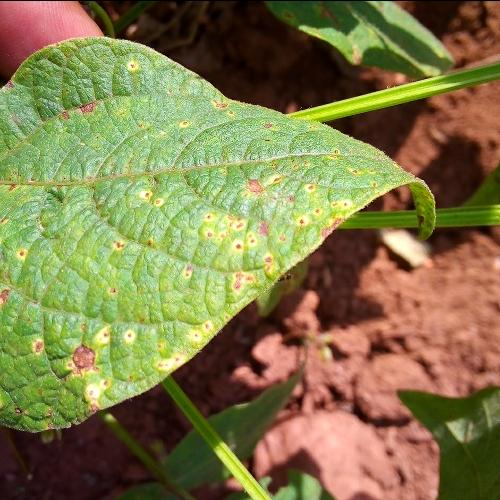hawar: (165, 143, 354, 302), (0, 281, 139, 428), (43, 74, 153, 190), (147, 314, 233, 395)
